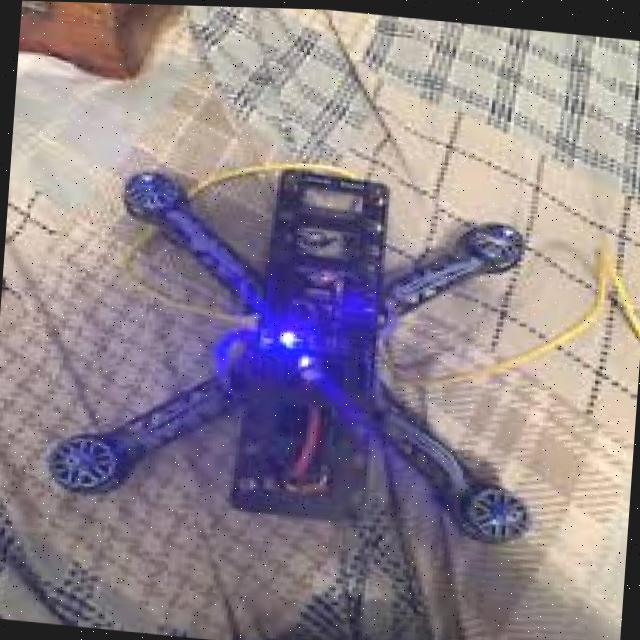drone: (49, 104, 568, 600)
